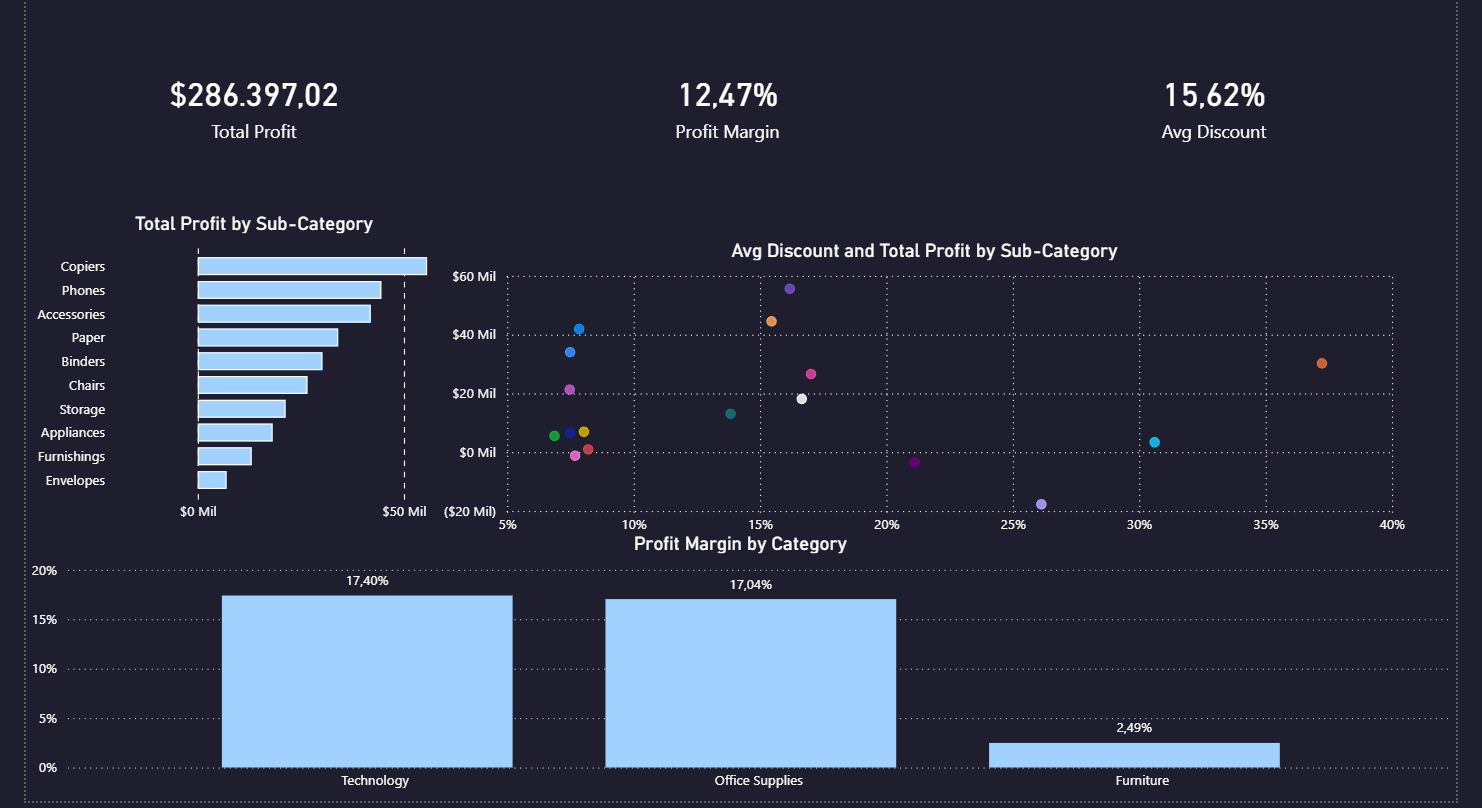

What the dashboard file says about the page in this screenshot:
{"tool":"powerbi","page":{"name":"Product Performance","canvas":[1280,720],"ordinal":1},"visuals":[{"type":"card","fields":{"Values":["_Measures.Total Profit"]},"box":[0,0,408.4,191.6],"z":0},{"type":"card","fields":{"Values":["_Measures.Profit Margin"]},"box":[408.4,0,439.7,191.6],"z":1000},{"type":"card","fields":{"Values":["_Measures.Avg Discount"]},"box":[848.1,0,431.6,191.6],"z":2000},{"type":"barChart","title":"Total Profit by Sub-Category","fields":{"Category":["dProducts.Sub-Category"],"Y":["_Measures.Total Profit"]},"box":[0,192.5,408.4,286.6],"z":3000},{"type":"scatterChart","title":"Avg Discount and Total Profit by Sub-Category","fields":{"X":["_Measures.Avg Discount"],"Y":["_Measures.Total Profit"],"Series":["dProducts.Sub-Category"]},"box":[369,216.7,871.3,286.6],"z":4000},{"type":"columnChart","title":"Profit Margin by Category","fields":{"Category":["dProducts.Category"],"Y":["_Measures.Profit Margin"]},"box":[0,479.1,1279.7,240.9],"z":5000}]}

Visuals, with their boxes on the page's 1280x720 design canvas (x1, y1, x2, y2). These are canvas units, not pixel positions in the 1482x808 screenshot, which may show the page scaled, cropped or inside an application window:
card - _Measures.Total Profit: 0,0,408,192
card - _Measures.Profit Margin: 408,0,848,192
card - _Measures.Avg Discount: 848,0,1280,192
"Total Profit by Sub-Category" barChart: 0,192,408,479
"Avg Discount and Total Profit by Sub-Category" scatterChart: 369,217,1240,503
"Profit Margin by Category" columnChart: 0,479,1280,720
